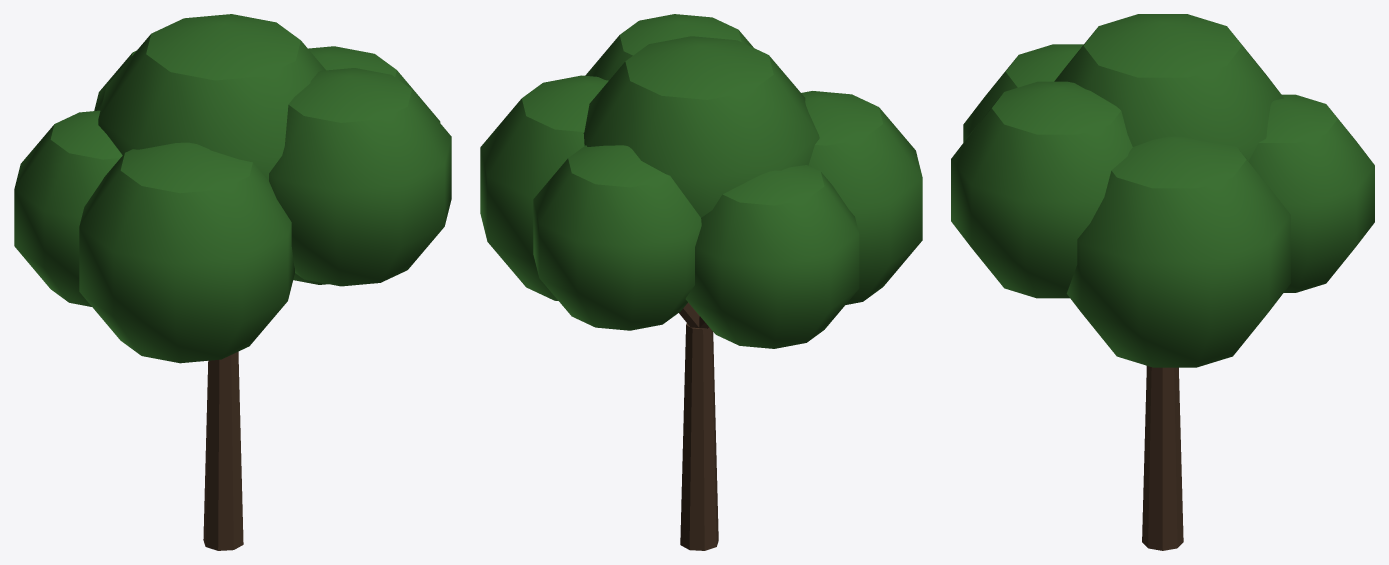
File: landscape.tree.oak_large.glb
3 views of the same model, side by side, from view 1: azimuth 30°, elevation 25°; view 2: azimuth 150°, elevation 25°; view 3: azimuth 270°, elevation 25° (orthographic). The views are drawn at different scales.
Parts seen in each view (by area): view 1: main__foliage, main__bark; view 2: main__foliage, main__bark; view 3: main__foliage, main__bark.
Boxes of the visible parts, x1,y1,x2,y2 form: main__foliage: (14, 14, 451, 363); main__bark: (203, 351, 243, 550); main__foliage: (480, 14, 922, 348); main__bark: (679, 302, 718, 550); main__foliage: (951, 14, 1374, 367); main__bark: (1142, 366, 1183, 550).
Size of the model in its own units: 11.66 by 15.3 by 11.31.
